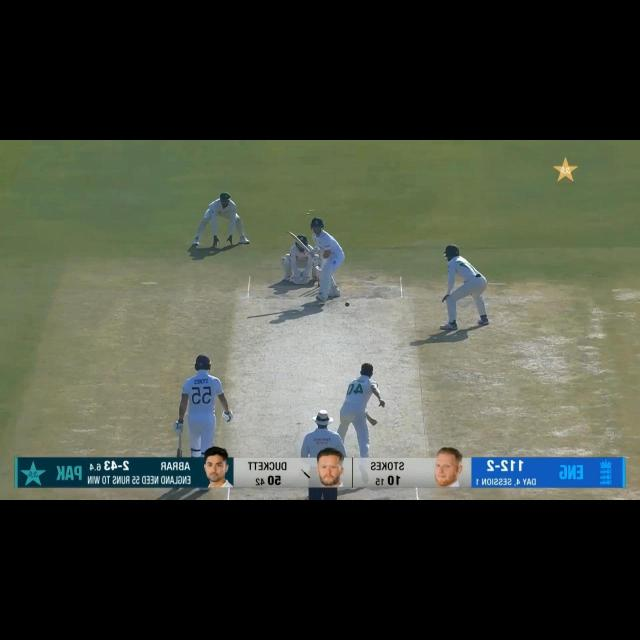bat: (287, 231, 310, 251), (176, 449, 182, 456)
toe: (287, 231, 294, 236), (172, 487, 180, 491)
